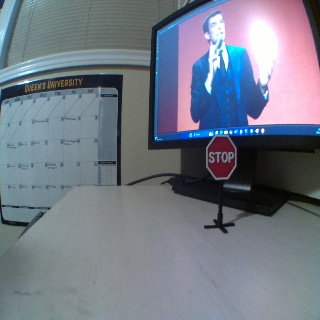sign_stop: (205, 134, 235, 178)
